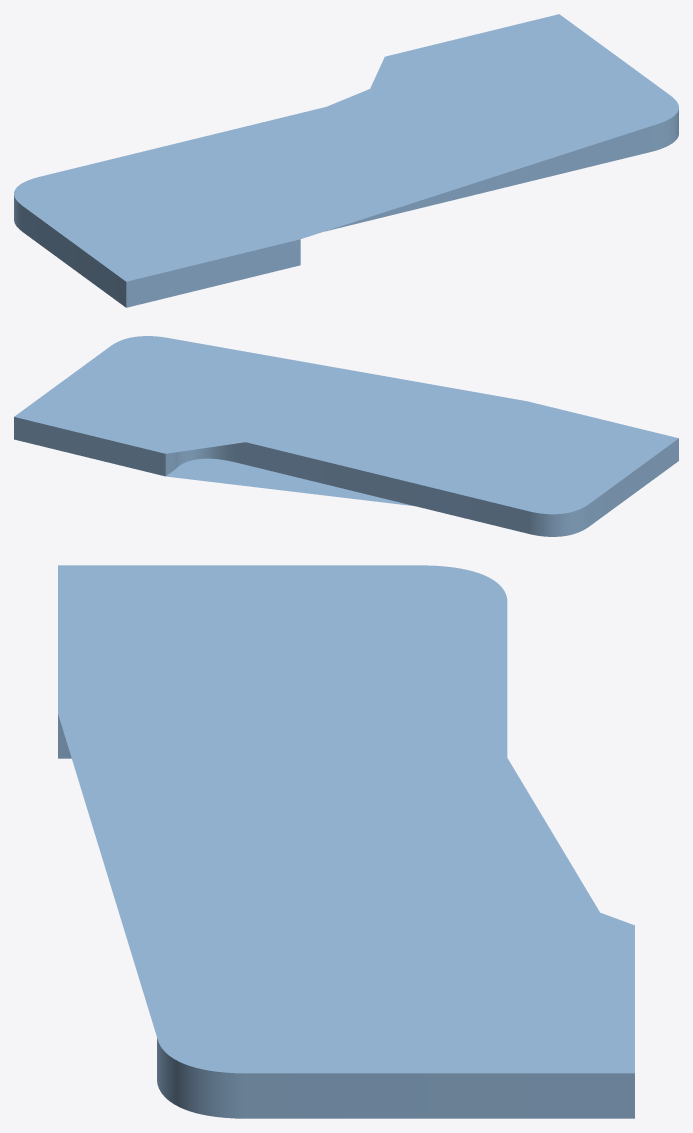
The model's file is sBend4.fbx.
3 views of the same model, one above another, from view 1: azimuth 30°, elevation 25°; view 2: azimuth 150°, elevation 25°; view 3: azimuth 270°, elevation 25° (orthographic). The views are drawn at different scales.
Visible parts, largest first — view 1: sBend4; view 2: sBend4; view 3: sBend4.
Boxes of the visible parts, x1,y1,x2,y2 form: sBend4: (14, 14, 678, 307); sBend4: (14, 336, 678, 536); sBend4: (58, 565, 634, 1118).
Size of the model in its own units: 1202 by 50 by 577.
